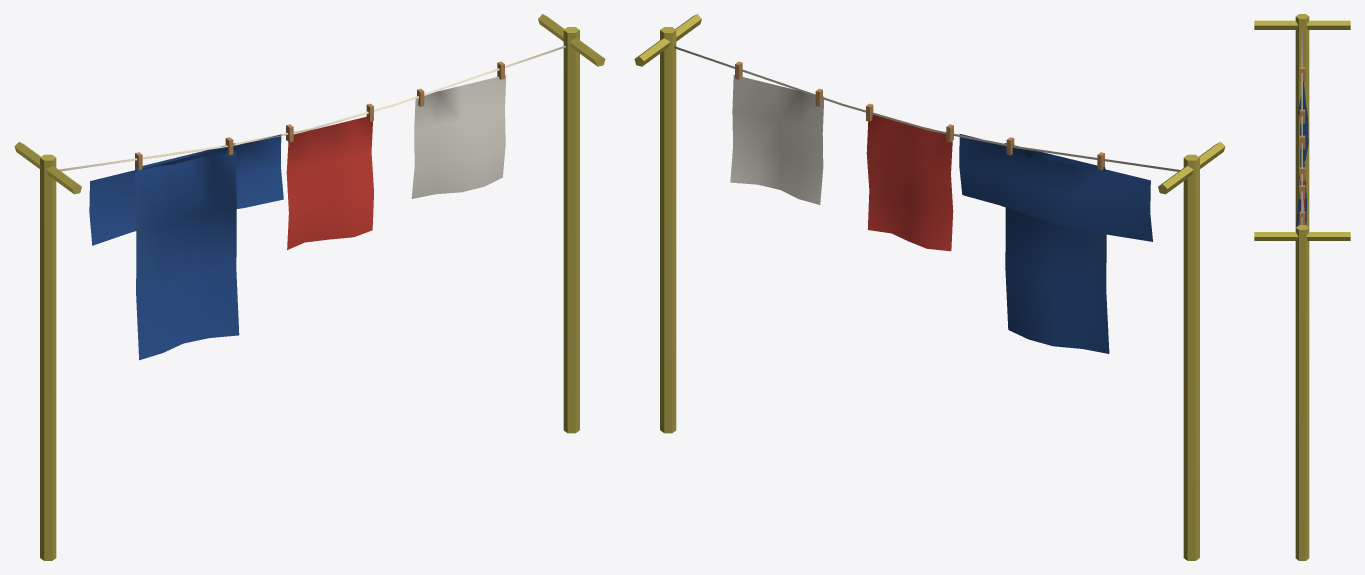
The model's file is laundry-line.glb.
3 views of the same model, side by side, from view 1: azimuth 30°, elevation 25°; view 2: azimuth 150°, elevation 25°; view 3: azimuth 270°, elevation 25° (orthographic). The views are drawn at different scales.
Parts seen in each view (by area): view 1: Laundry line Fabric indigo, Laundry line Bamboo, Laundry line Fabric red, Laundry line Fabric cream, Laundry line Rope, Laundry line Wood; view 2: Laundry line Fabric indigo, Laundry line Bamboo, Laundry line Fabric red, Laundry line Fabric cream, Laundry line Rope, Laundry line Wood; view 3: Laundry line Bamboo, Laundry line Fabric indigo, Laundry line Wood, Laundry line Rope.
Part boxes in pixels (x1,y1,x2,y2): Laundry line Fabric indigo: [89, 134, 283, 360]; Laundry line Bamboo: [14, 14, 605, 560]; Laundry line Fabric red: [286, 116, 373, 249]; Laundry line Fabric cream: [411, 75, 506, 198]; Laundry line Rope: [59, 45, 565, 171]; Laundry line Wood: [135, 61, 504, 170]; Laundry line Fabric indigo: [959, 134, 1152, 353]; Laundry line Bamboo: [634, 14, 1225, 560]; Laundry line Fabric red: [866, 114, 953, 251]; Laundry line Fabric cream: [730, 75, 823, 204]; Laundry line Rope: [674, 46, 1179, 171]; Laundry line Wood: [735, 61, 1104, 170]; Laundry line Bamboo: [1254, 14, 1350, 560]; Laundry line Fabric indigo: [1296, 81, 1308, 226]; Laundry line Wood: [1299, 67, 1305, 224]; Laundry line Rope: [1301, 31, 1302, 224].
Size of the model in its own units: 2.66 by 1.9 by 0.5.
